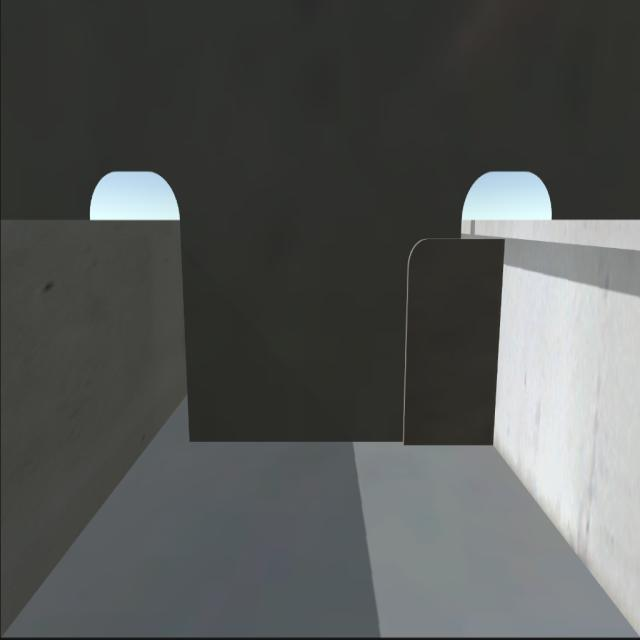fillet_yong_jeop_jang: (186, 431, 494, 455)
longi_yong_jeop_jang: (483, 237, 514, 456)
plate_CP05: (406, 230, 496, 445)
